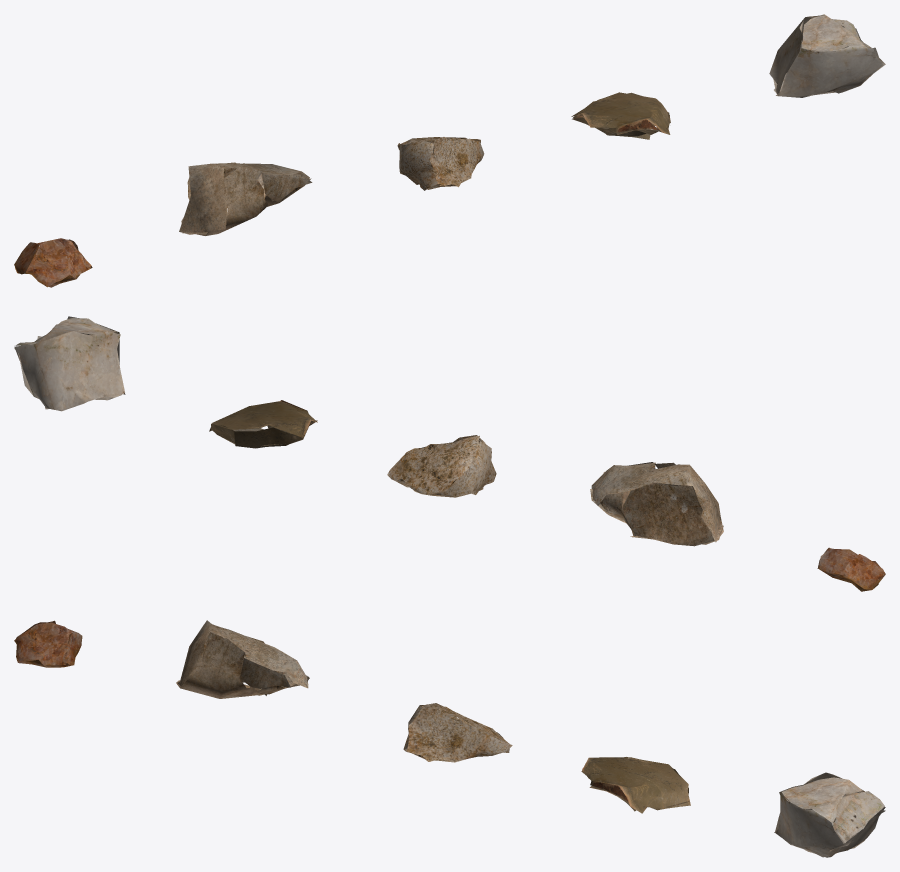
The model's file is stones.glb.
The picture shows the model from 3 angles, top to bottom: view 1: azimuth 30°, elevation 25°; view 2: azimuth 150°, elevation 25°; view 3: azimuth 330°, elevation 25°; orthographic projection.
Parts seen in each view (by area): view 1: namaqualand_stones_01_a; view 2: namaqualand_stones_01_a; view 3: namaqualand_stones_01_a.
Boxes of the visible parts, x1,y1,x2,y2 form: namaqualand_stones_01_a: (14, 14, 885, 287); namaqualand_stones_01_a: (14, 316, 885, 591); namaqualand_stones_01_a: (14, 620, 885, 857).
Size of the model in its own units: 1 by 0.0826 by 0.1092.
1 material, 1 textured.
